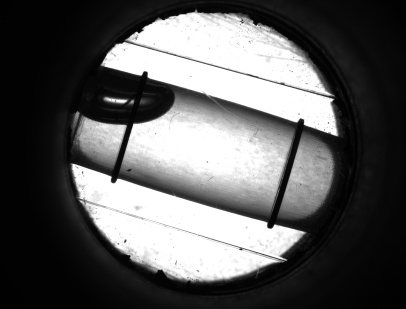line: (267, 140, 302, 208), (112, 131, 133, 164)
